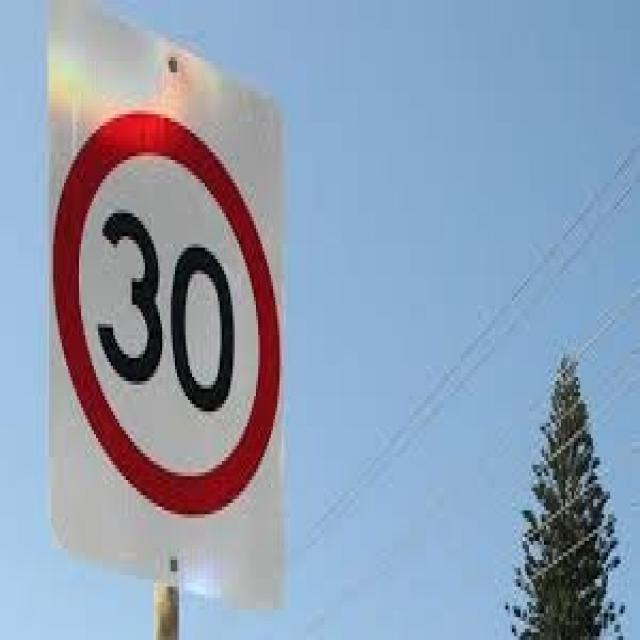speed_limit_30: (50, 99, 285, 528)
